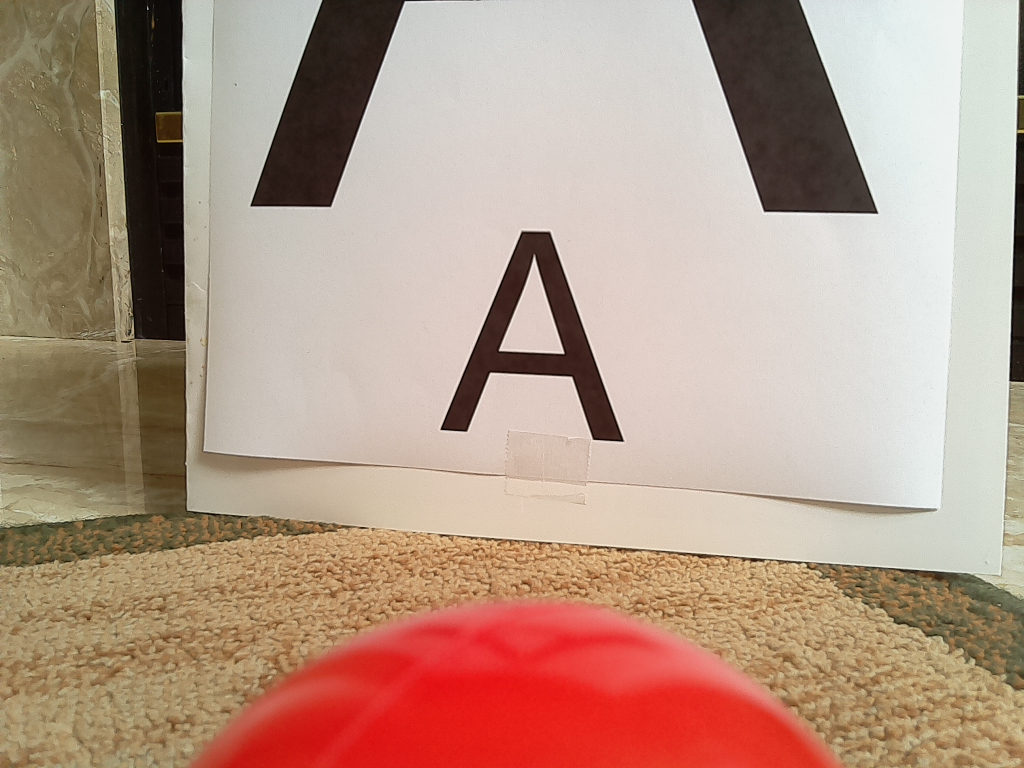letter: (439, 232, 626, 442)
